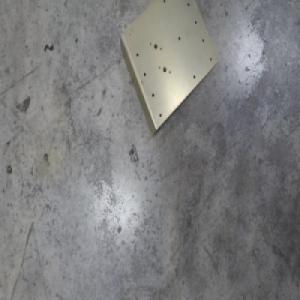MetalSheet: (118, 0, 219, 139)
